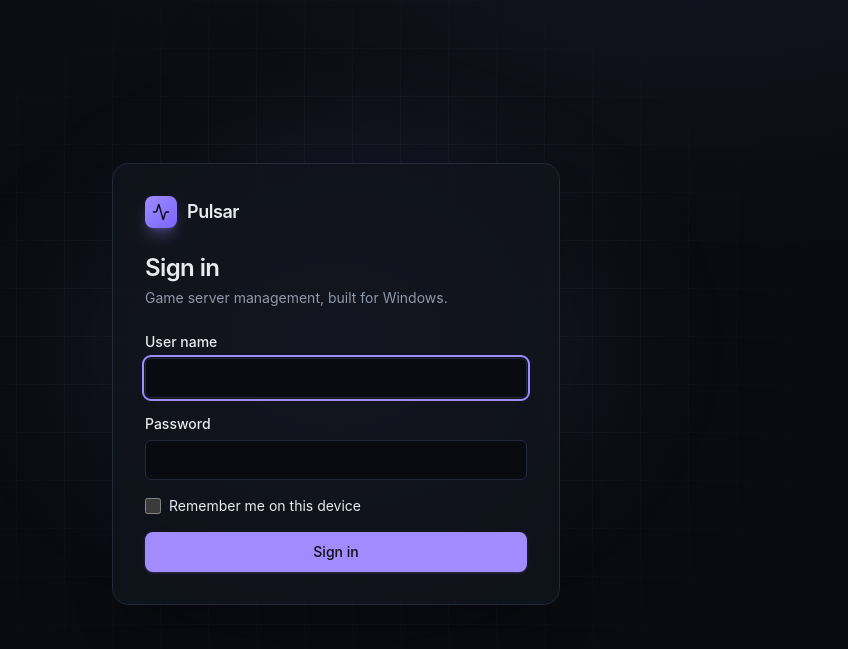
Test case: login › shows the translated API error
Type "admin" into the field labelled "User name" at point(336, 378), box [145,358,527,398]
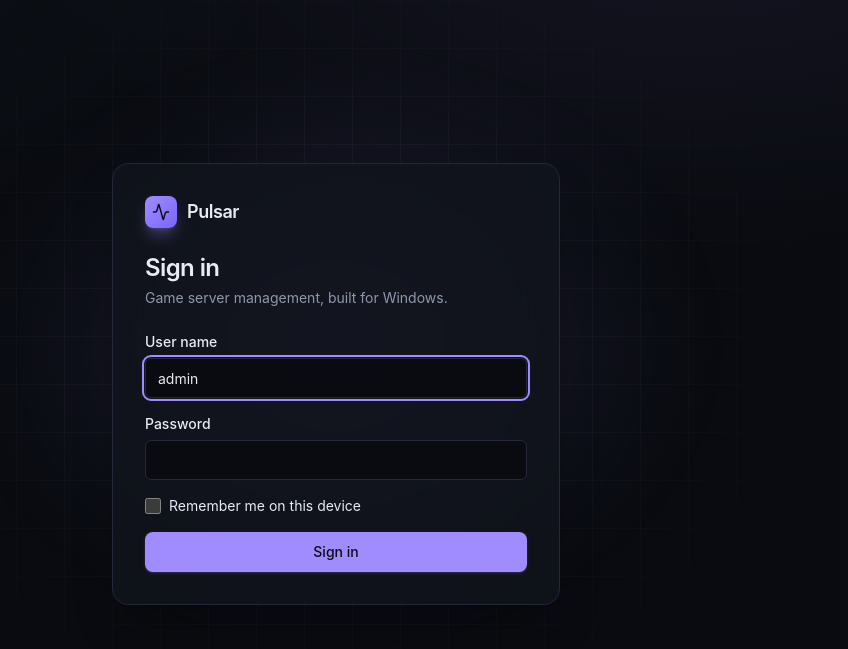
Type "wrong password" into the password field labelled "Password" at point(336, 460), box [145,440,527,480]
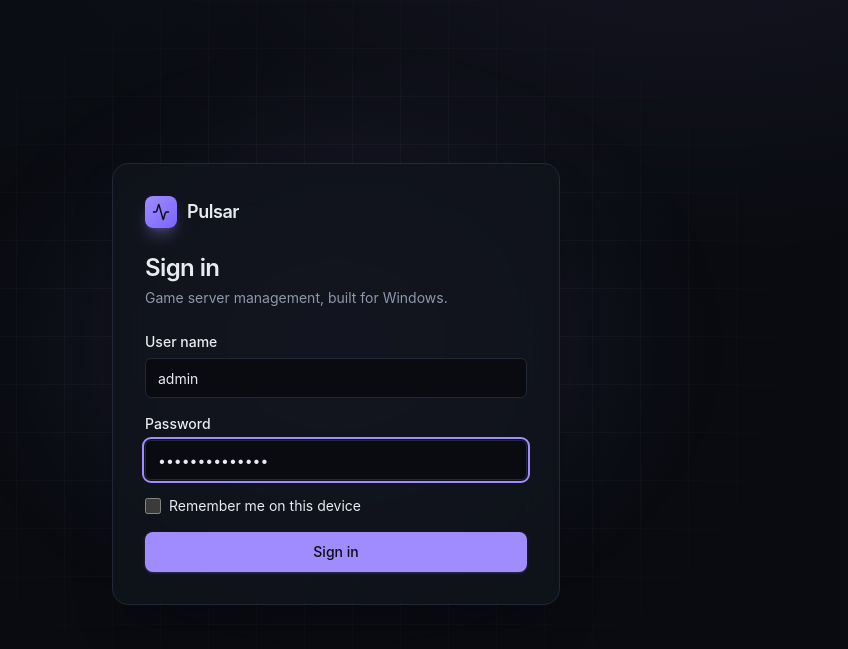
Click the button "Sign in" at point(336, 552), box [145,532,527,572]
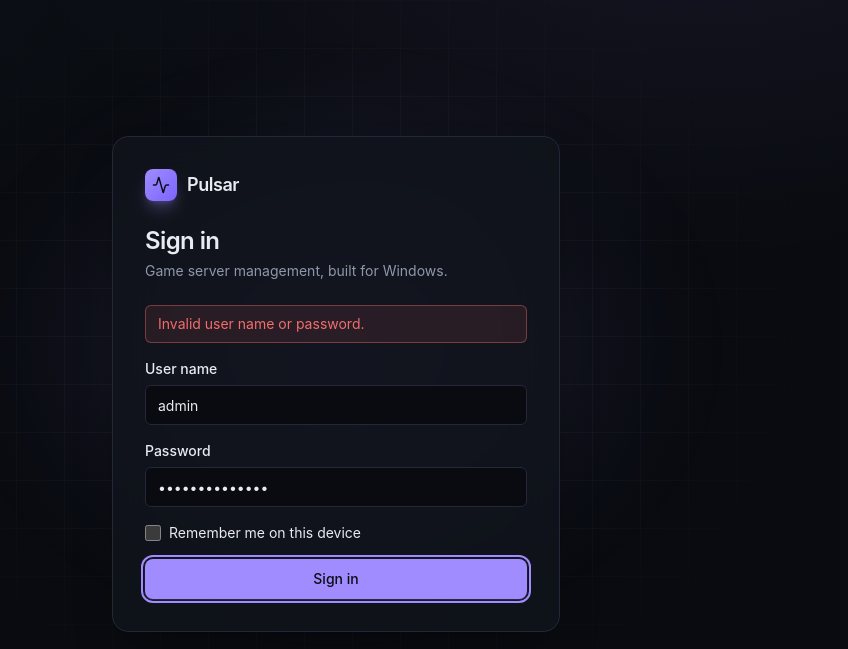
Check: the message reads "Invalid user name or password.", box [158,315,364,332]
